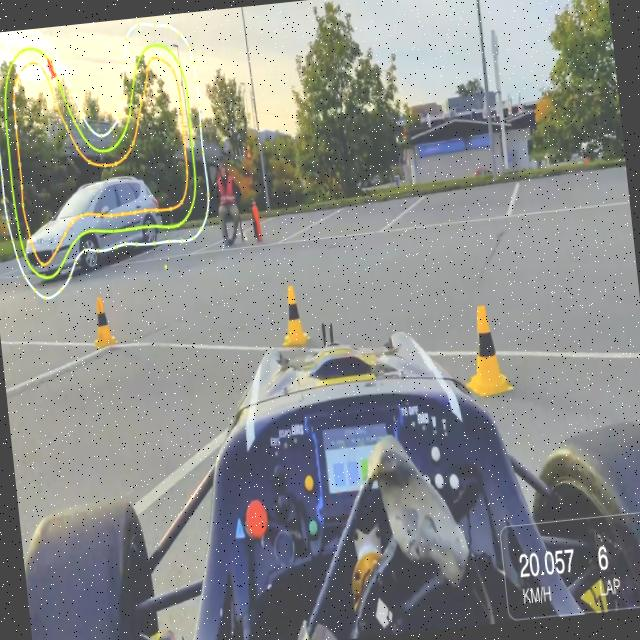yellow_cone: (448, 282, 518, 414), (269, 278, 314, 358), (85, 276, 124, 364)
